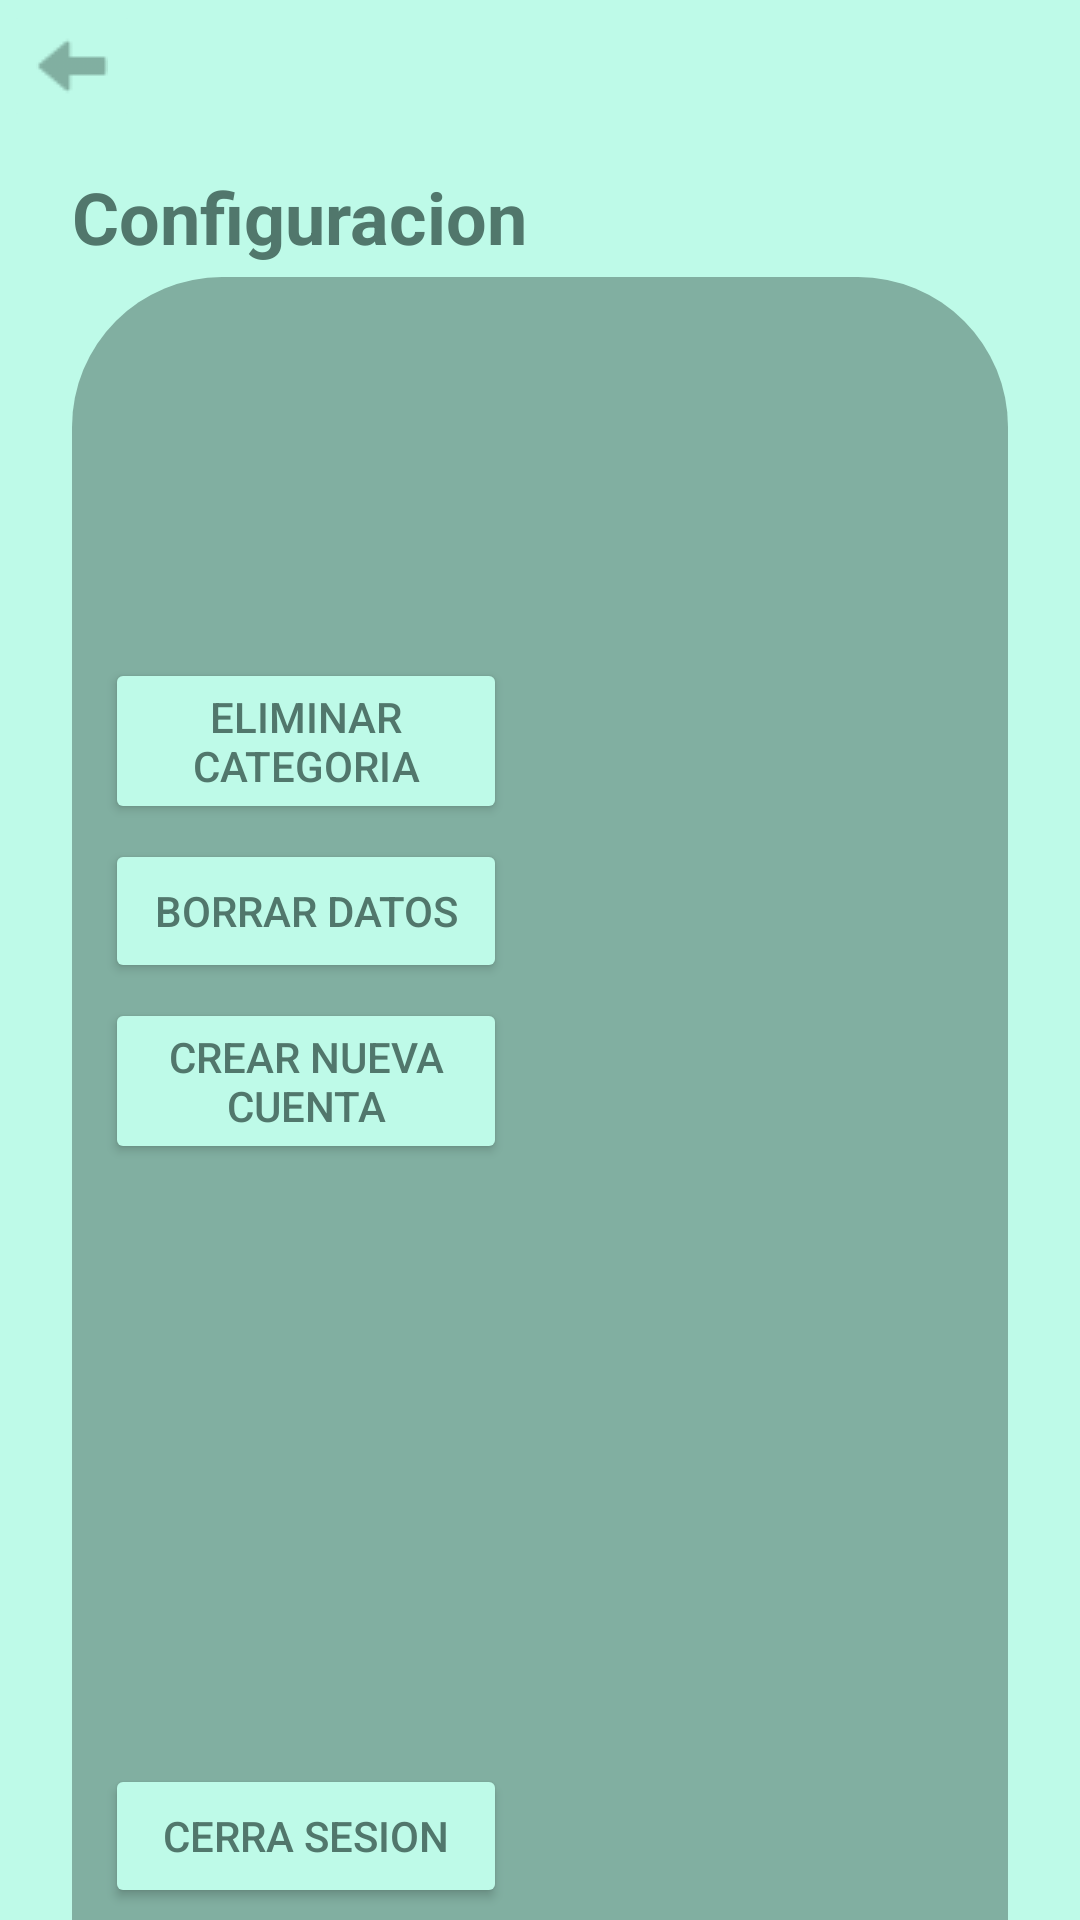

Icon bounding boxes for this 1080px×1920px phone screenshot, format (x1, y1, x2, y2):
back: (38, 41, 106, 91)
